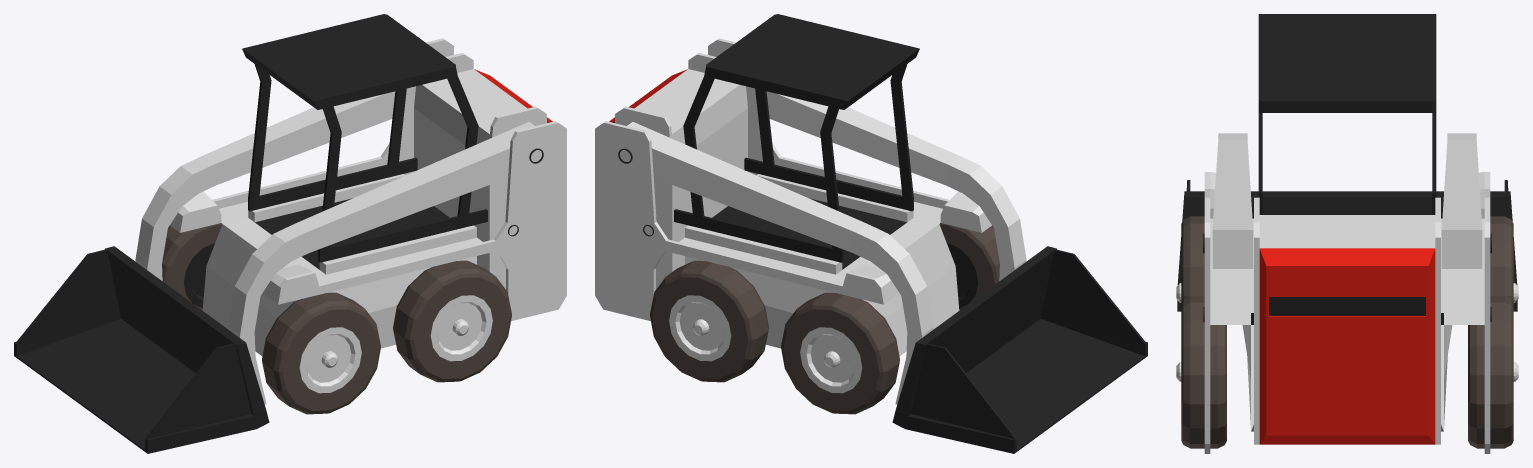
The model's file is bobcat.fbx.
3 views of the same model, side by side, from view 1: azimuth 30°, elevation 25°; view 2: azimuth 150°, elevation 25°; view 3: azimuth 270°, elevation 25° (orthographic). The views are drawn at different scales.
Parts seen in each view (by area): view 1: Cube, Cube.001, Cube.006, Cube.003, Cube.002, Cube.005; view 2: Cube, Cube.001, Cube.006, Cube.004, Cube.005, Cube.002; view 3: Cube, Cube.006, Cube.001, Cube.003, Cube.004, Cube.002, Cube.005.
Boxes of the visible parts, x1,y1,x2,y2 form: Cube: [170, 14, 566, 356]; Cube.001: [14, 246, 269, 453]; Cube.006: [135, 86, 534, 404]; Cube.003: [393, 260, 511, 382]; Cube.002: [262, 292, 380, 414]; Cube.005: [162, 223, 222, 310]; Cube: [595, 14, 991, 356]; Cube.001: [892, 246, 1147, 453]; Cube.006: [627, 86, 1026, 404]; Cube.004: [650, 260, 768, 382]; Cube.005: [781, 292, 899, 414]; Cube.002: [939, 223, 999, 310]; Cube: [1203, 14, 1491, 453]; Cube.006: [1212, 133, 1482, 268]; Cube.001: [1177, 180, 1517, 311]; Cube.003: [1176, 295, 1226, 448]; Cube.004: [1468, 295, 1518, 448]; Cube.002: [1176, 216, 1204, 302]; Cube.005: [1490, 216, 1518, 302].
Bounding box in the file's own units: 227 × 141 × 123.
